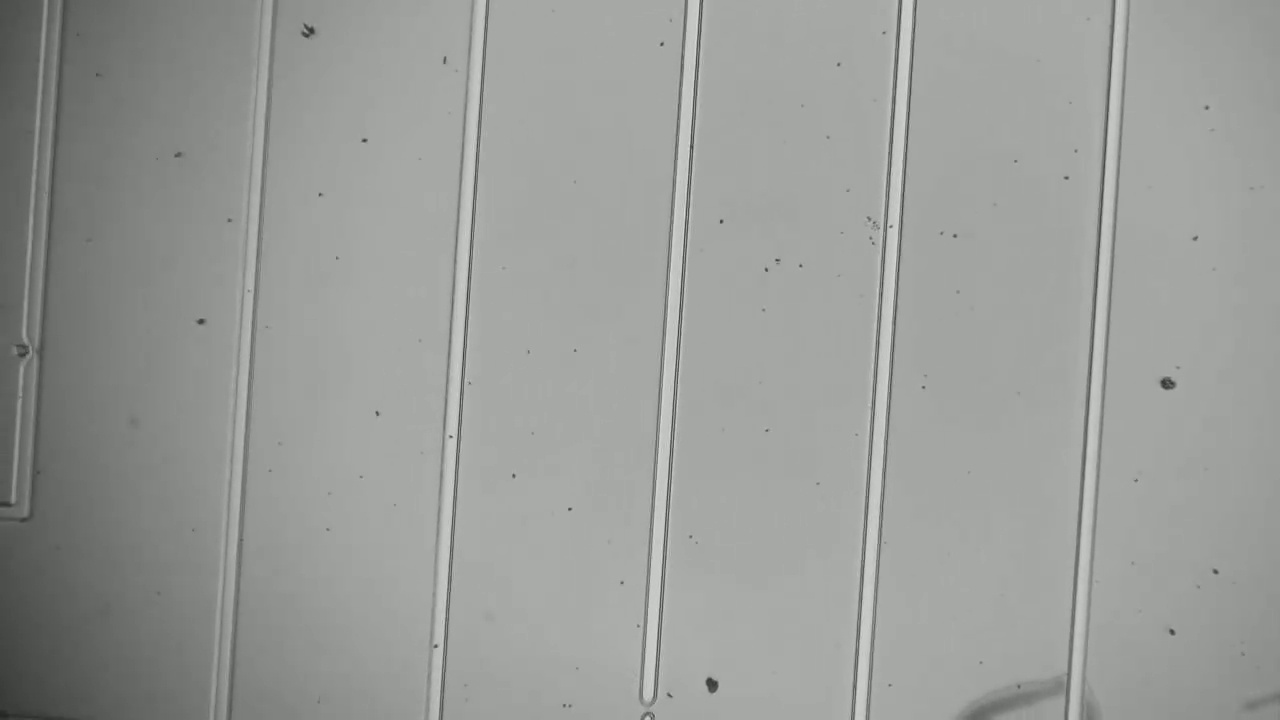edge_bite: (7, 330, 52, 375)
open: (622, 684, 674, 719)
